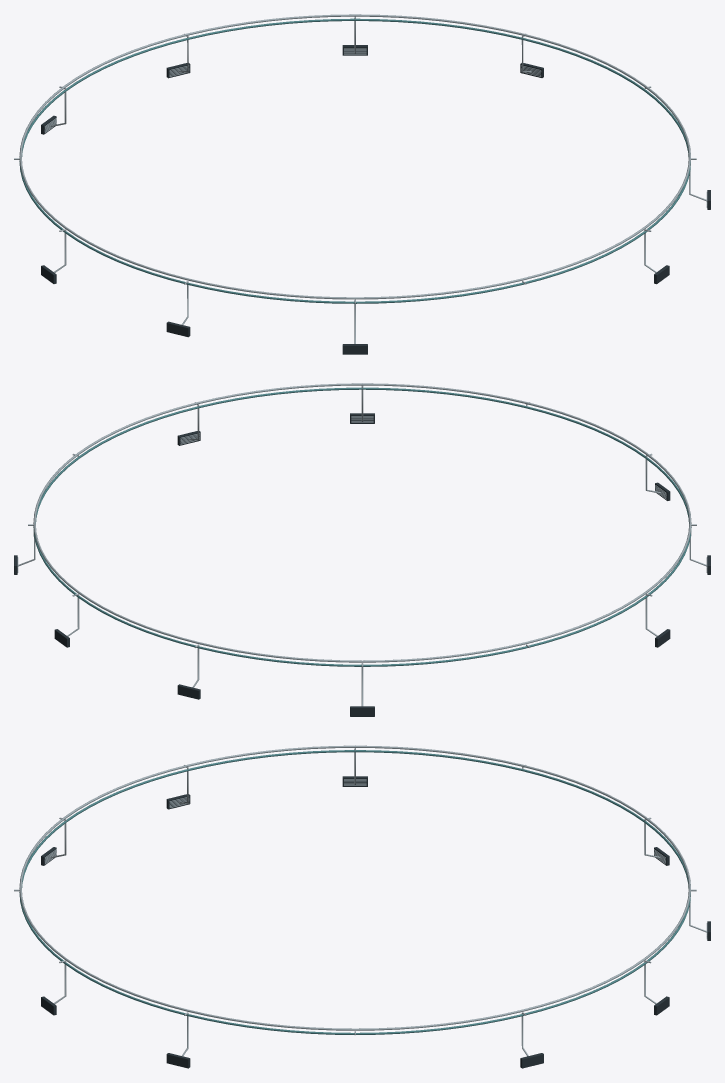
The model's file is RD_C03_Services.fbx.
The picture shows the model from 3 angles, top to bottom: view 1: azimuth 30°, elevation 25°; view 2: azimuth 150°, elevation 25°; view 3: azimuth 270°, elevation 25°; orthographic projection. The views are drawn at different scales.
Parts seen in each view (by area): view 1: RD_C03_Services; view 2: RD_C03_Services; view 3: RD_C03_Services.
Part boxes in pixels (left/top/right/bottom): RD_C03_Services: left=14, top=14, right=710, bottom=354; RD_C03_Services: left=14, top=383, right=710, bottom=716; RD_C03_Services: left=14, top=745, right=710, bottom=1068.
Bounding box in the file's own units: 1889 × 146 × 1889.
